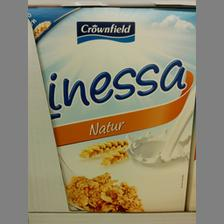Cerealien: (28, 7, 196, 209)
